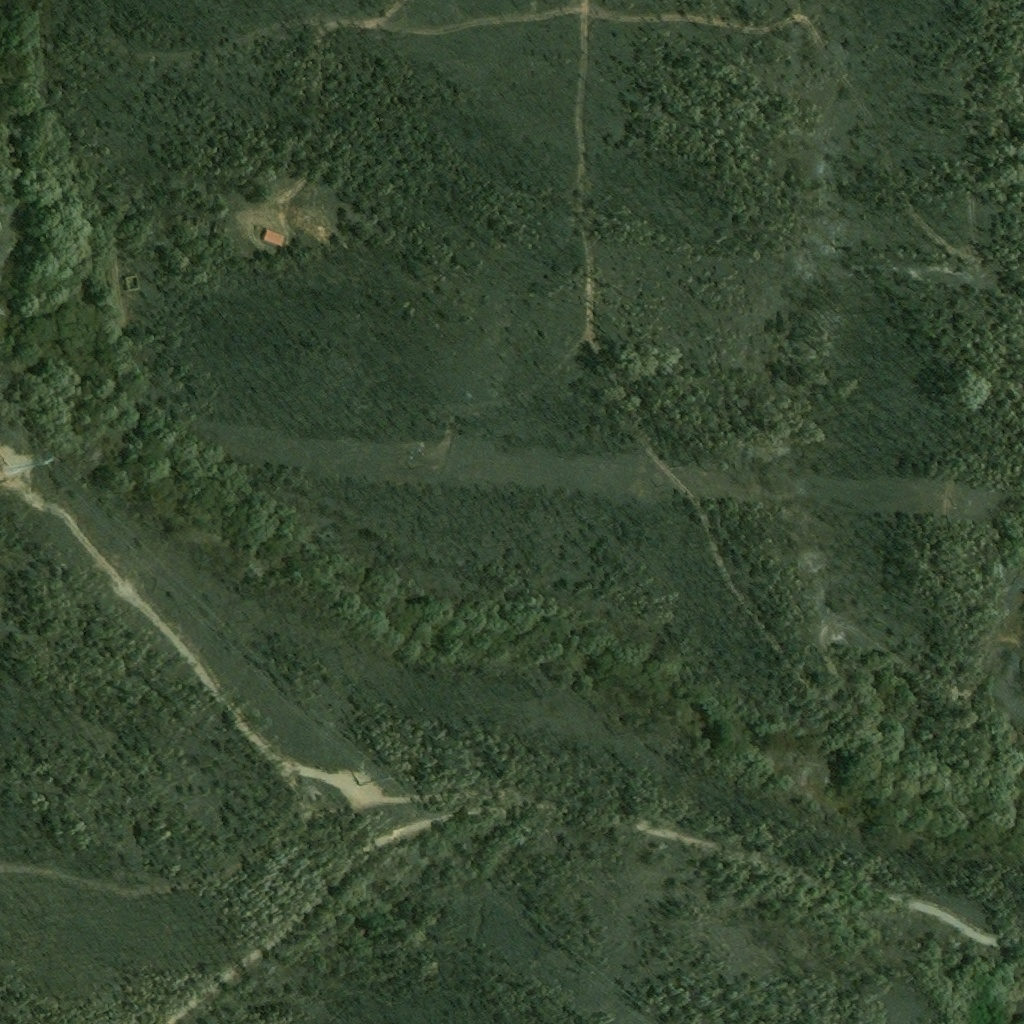0 no-damage: (261, 228, 284, 247)
